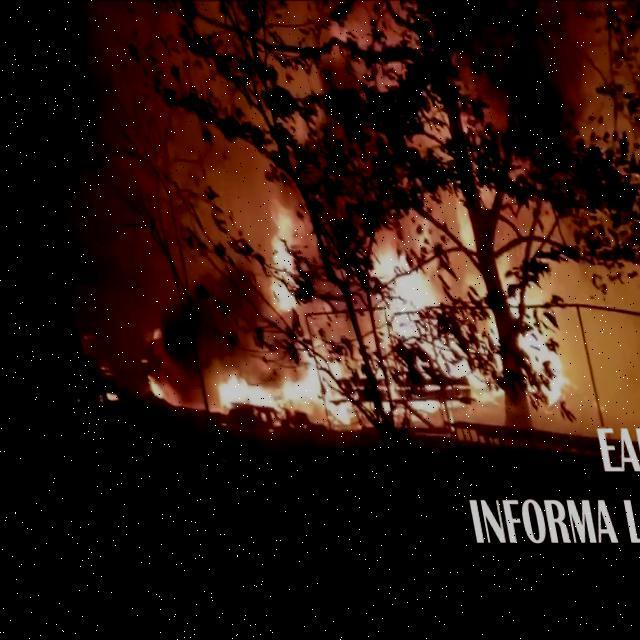Fire: (358, 264, 554, 422), (185, 345, 338, 408), (250, 200, 297, 311)
